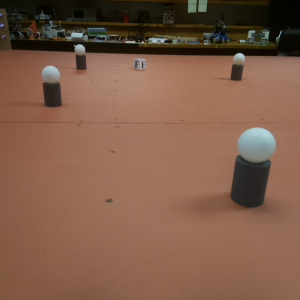blockF: (134, 57, 148, 72)
corner: (1, 11, 10, 51)
obstacle: (229, 127, 275, 211), (39, 63, 63, 107), (230, 51, 245, 81), (74, 44, 87, 71)
